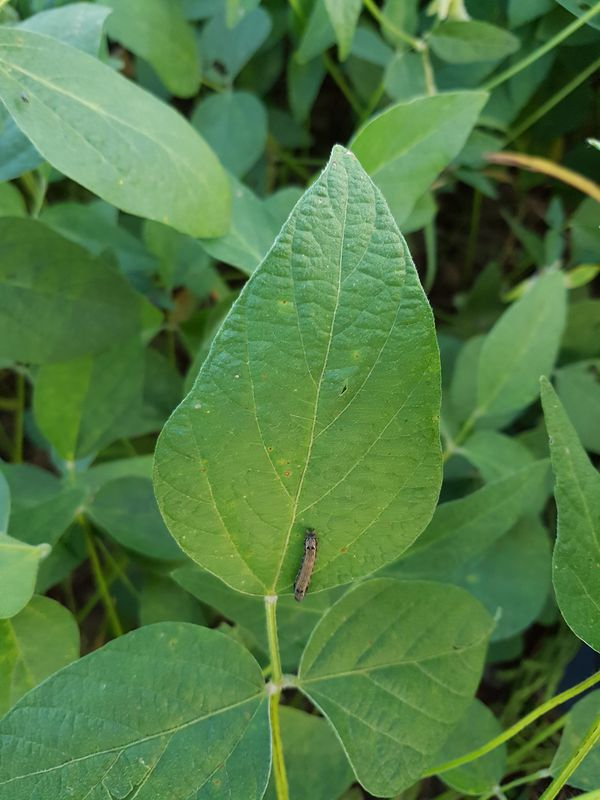Spodoptera_albula: (274, 523, 341, 609)
